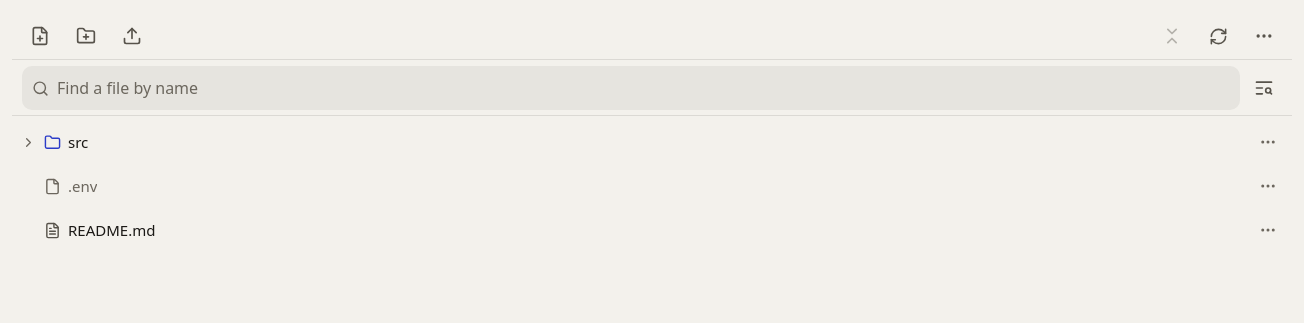
Scenario: the files panel › shows the server's refusal of a name in the same place
Check: the element showing "src .env README.md" is shown, box [12, 116, 1292, 276]
Click the button named "New folder": (86, 36) [64, 14, 108, 58]
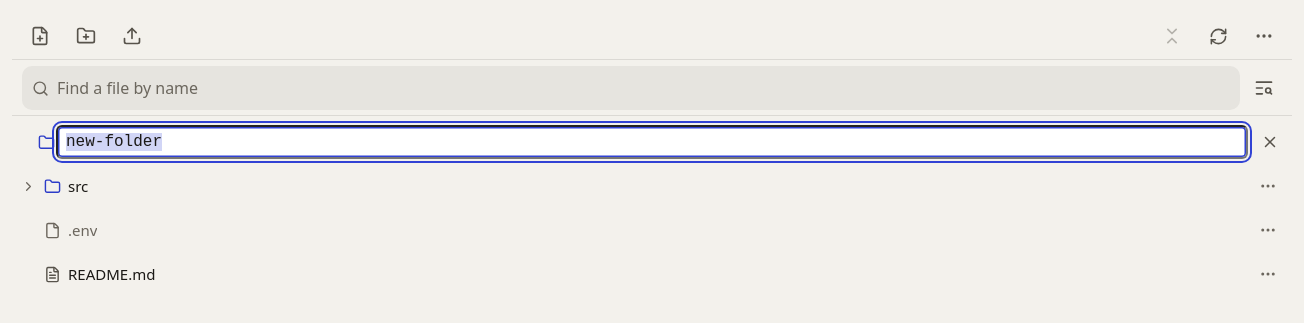
Replace the text in the field named "Name of the new folder" with "src": (652, 142) [56, 125, 1248, 159]
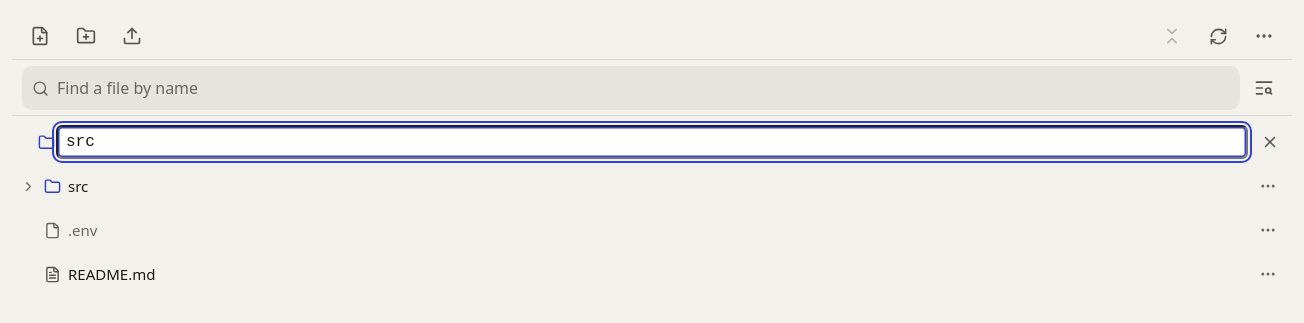
Press Enter in the field named "Name of the new folder", box [56, 125, 1248, 159]
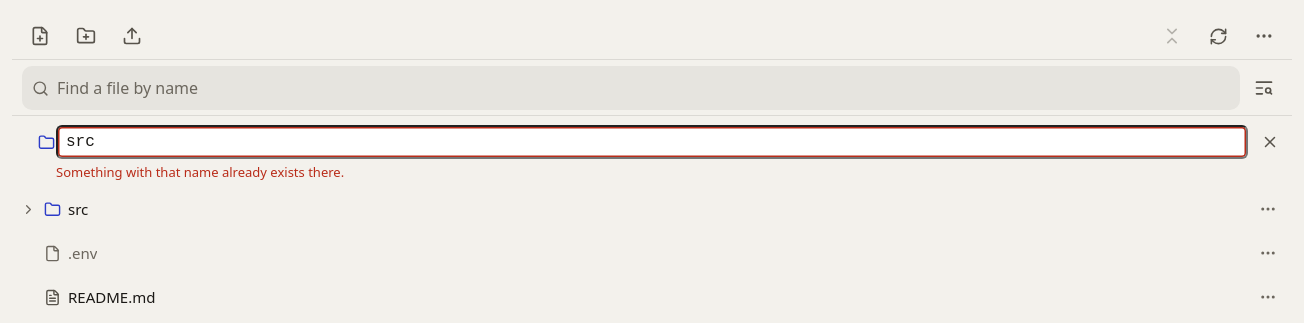
Check: the message reads "Something with that name already exists there.", box [56, 163, 344, 181]
